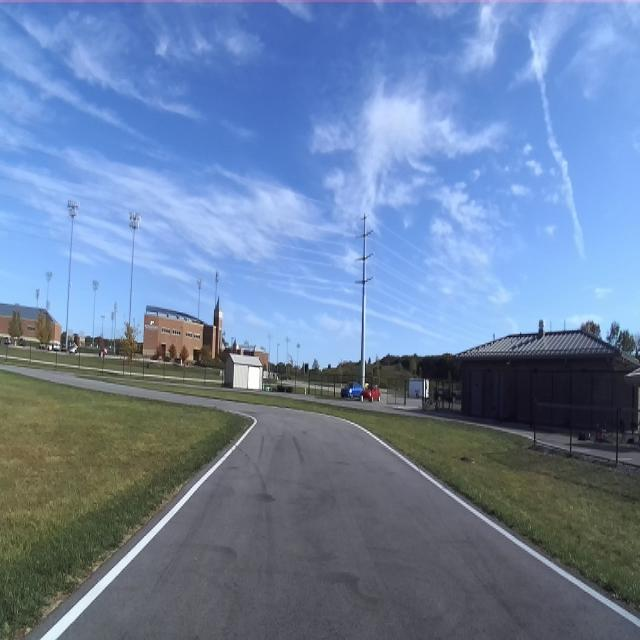white-line: (303, 411, 640, 628), (40, 411, 257, 639)
